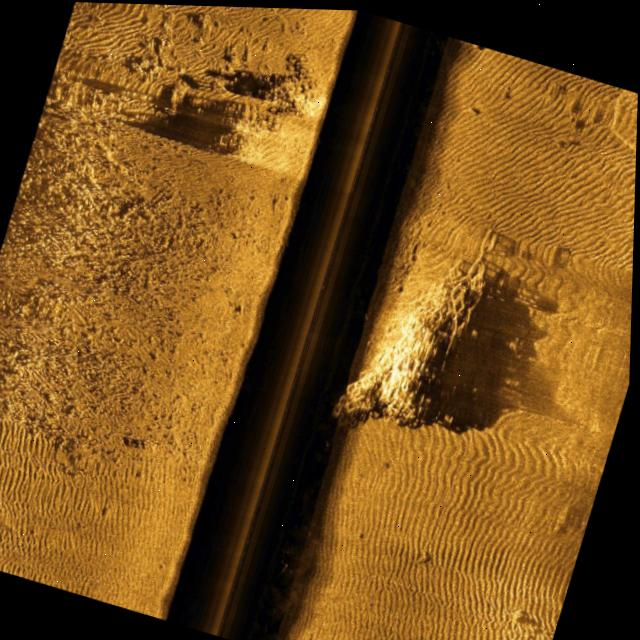artificial reef: (323, 217, 513, 465)
